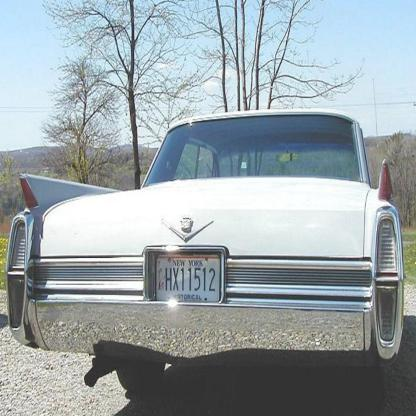Car: (6, 106, 406, 403)
